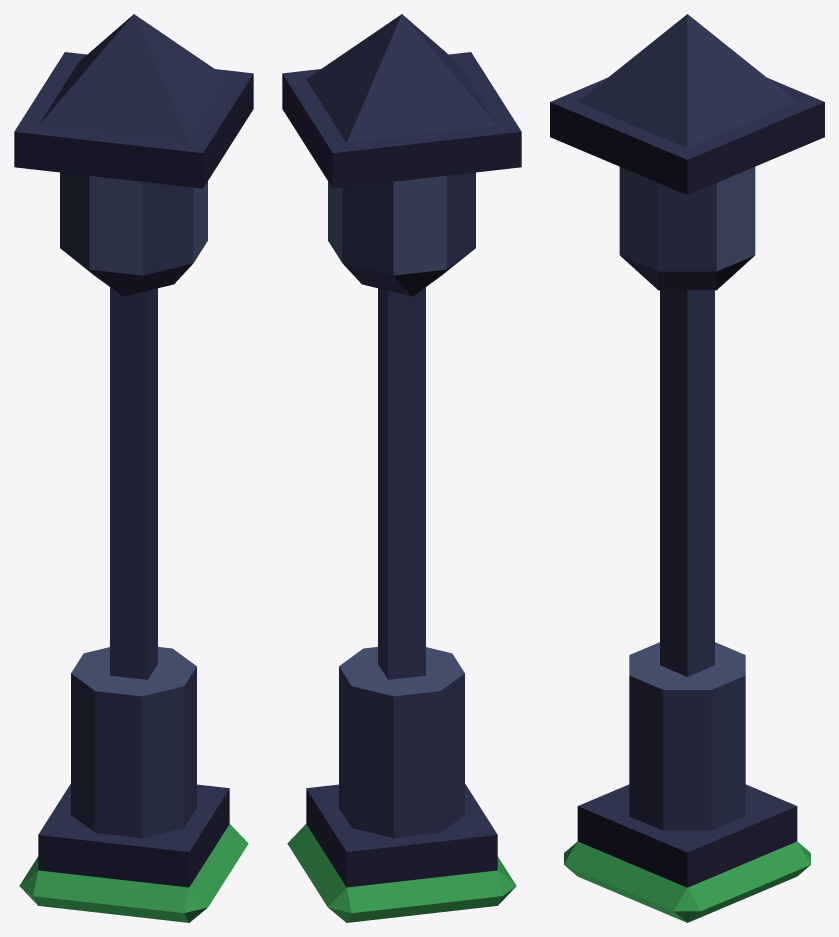
File: lampione.glb
3 renders of one model, left to right at view 1: azimuth 30°, elevation 25°; view 2: azimuth 150°, elevation 25°; view 3: azimuth 270°, elevation 25°, orthographic.
Visible parts, largest first — view 1: cylinder, cuboid_1, pyramid, beveled_cuboid, cuboid_2, cuboid, beveled_cuboid_1; view 2: cylinder, cuboid_1, pyramid, beveled_cuboid, cuboid_2, cuboid, beveled_cuboid_1; view 3: cuboid_1, cylinder, pyramid, beveled_cuboid, cuboid_2, cuboid, beveled_cuboid_1.
Boxes of the visible parts, bbox=[...] form: cylinder: bbox=[71, 647, 196, 838]; cuboid_1: bbox=[110, 287, 157, 679]; pyramid: bbox=[38, 14, 229, 142]; beveled_cuboid: bbox=[60, 172, 207, 296]; cuboid_2: bbox=[14, 52, 253, 188]; cuboid: bbox=[38, 784, 229, 887]; beveled_cuboid_1: bbox=[19, 824, 248, 922]; cylinder: bbox=[339, 647, 464, 838]; cuboid_1: bbox=[378, 287, 425, 679]; pyramid: bbox=[306, 14, 497, 142]; beveled_cuboid: bbox=[328, 172, 475, 296]; cuboid_2: bbox=[282, 52, 521, 188]; cuboid: bbox=[306, 784, 497, 887]; beveled_cuboid_1: bbox=[287, 824, 516, 922]; cuboid_1: bbox=[660, 290, 714, 676]; cylinder: bbox=[629, 642, 745, 830]; pyramid: bbox=[578, 14, 796, 148]; beveled_cuboid: bbox=[619, 167, 755, 290]; cuboid_2: bbox=[550, 78, 824, 194]; cuboid: bbox=[577, 784, 797, 887]; beveled_cuboid_1: bbox=[564, 841, 810, 922].
Bounding box in the file's own units: 0.8839 × 3.06 × 0.8839.
1 material, 1 textured.
